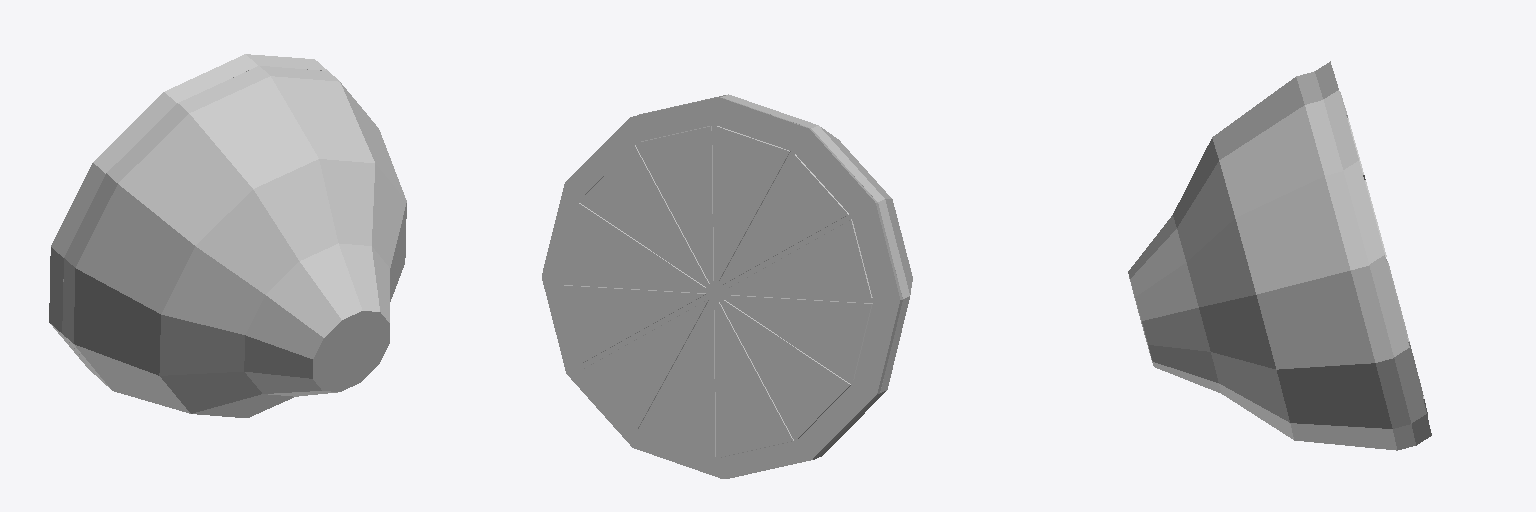
The model's file is halflime.obj.
The picture shows the model from 3 angles: view 1: azimuth 30°, elevation 25°; view 2: azimuth 150°, elevation 25°; view 3: azimuth 270°, elevation 25°; orthographic projection.
Visible parts, largest first — view 1: model.001; view 2: model.001; view 3: model.001.
Boxes of the visible parts, <box> form: model.001: <box>49,54,406,417</box>; model.001: <box>542,94,912,478</box>; model.001: <box>1128,61,1431,450</box>.
Size of the model in its own units: 0.2011 by 0.1998 by 0.1567.